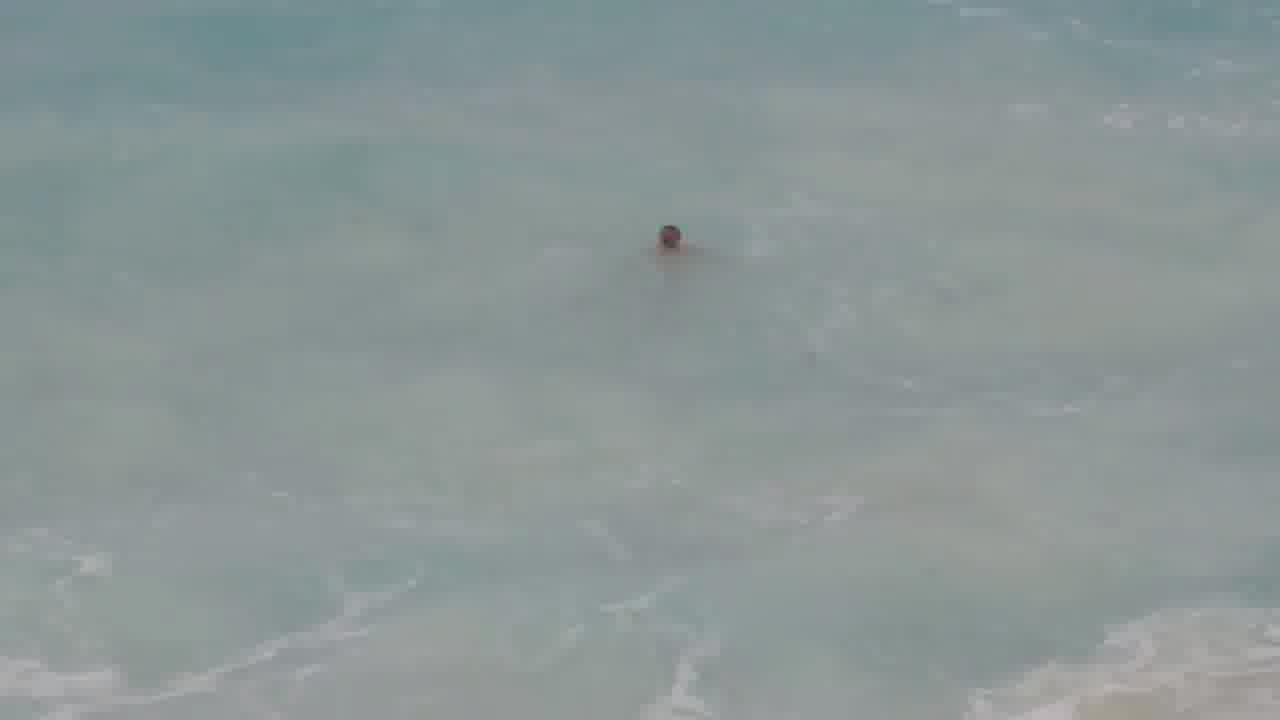swimmer: (634, 216, 700, 264)
